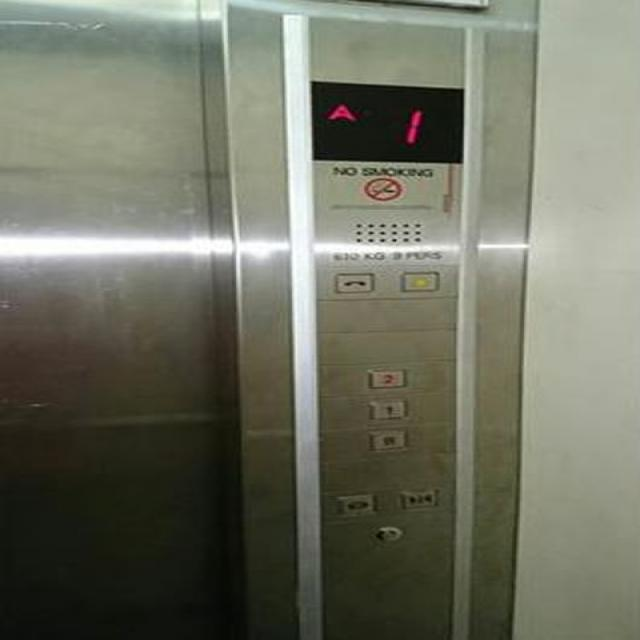1: (364, 396, 407, 419)
2: (365, 367, 408, 389)
alarm: (397, 271, 439, 291)
blur: (367, 428, 409, 450)
call: (333, 272, 375, 292)
close: (394, 486, 438, 508)
keyhole: (372, 526, 400, 542)
led: (308, 78, 464, 165)
open: (333, 493, 378, 515)
